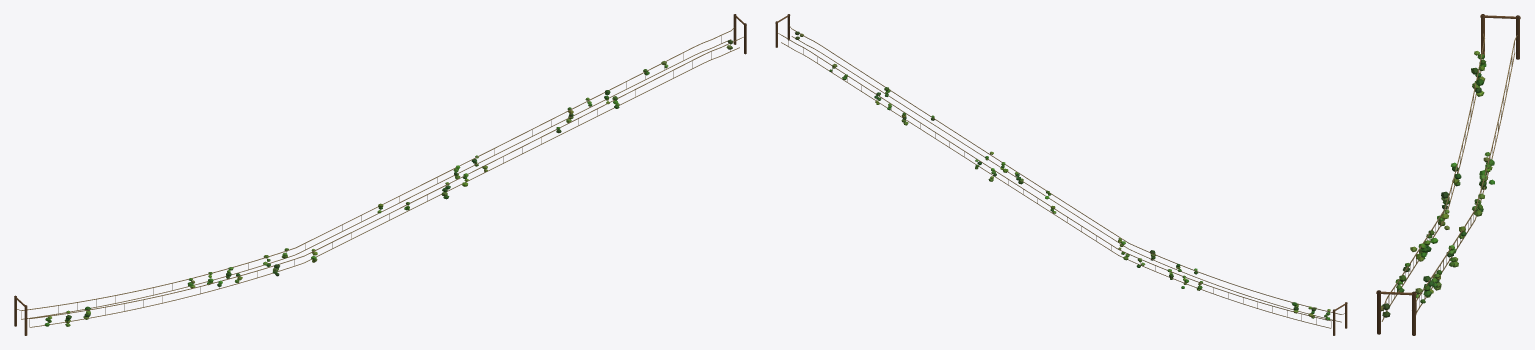
The model's file is SM_Bridge_01_02_Rails.fbx.
3 views of the same model, side by side, from view 1: azimuth 90°, elevation 25°; view 2: azimuth 210°, elevation 25°; view 3: azimuth 330°, elevation 25° (orthographic). The views are drawn at different scales.
Visible parts, largest first — view 1: SM_Bridge_01_02_Rails; view 2: SM_Bridge_01_02_Rails; view 3: SM_Bridge_01_02_Rails.
Boxes of the visible parts, bbox=[...] form: SM_Bridge_01_02_Rails: bbox=[14, 14, 746, 335]; SM_Bridge_01_02_Rails: bbox=[775, 14, 1347, 335]; SM_Bridge_01_02_Rails: bbox=[1376, 14, 1520, 335].
Size of the model in its own units: 40.94 by 21.59 by 83.77.
